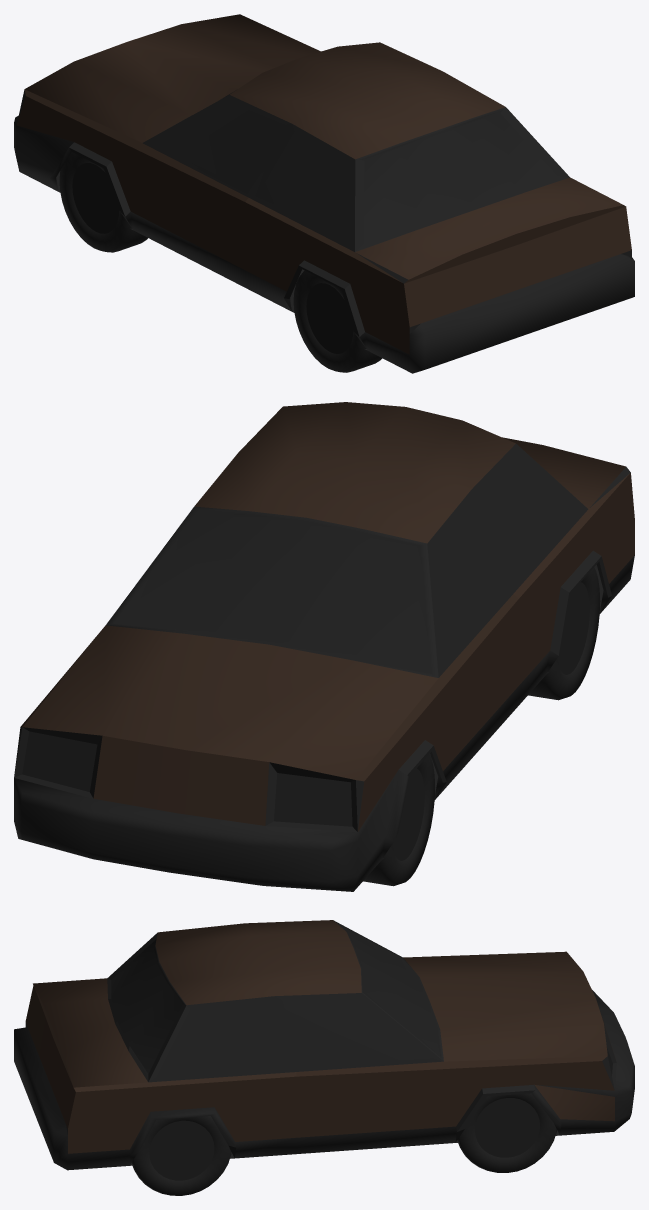
The model's file is carro.obj.
3 views of the same model, one above another, from view 1: azimuth 30°, elevation 25°; view 2: azimuth 150°, elevation 25°; view 3: azimuth 270°, elevation 25° (orthographic). The views are drawn at different scales.
Visible parts, largest first — view 1: Car_Cube.002; view 2: Car_Cube.002; view 3: Car_Cube.002.
Boxes of the visible parts, x1,y1,x2,y2 form: Car_Cube.002: [14, 14, 634, 373]; Car_Cube.002: [14, 402, 634, 891]; Car_Cube.002: [14, 920, 634, 1195].
Bounding box in the file's own units: 10.71 × 6.36 × 19.26.
2 materials, 2 textured.
